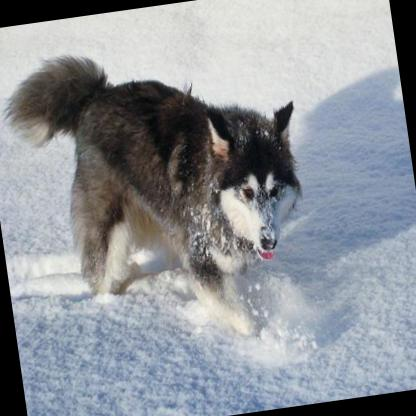malamute: (0, 21, 323, 364)
